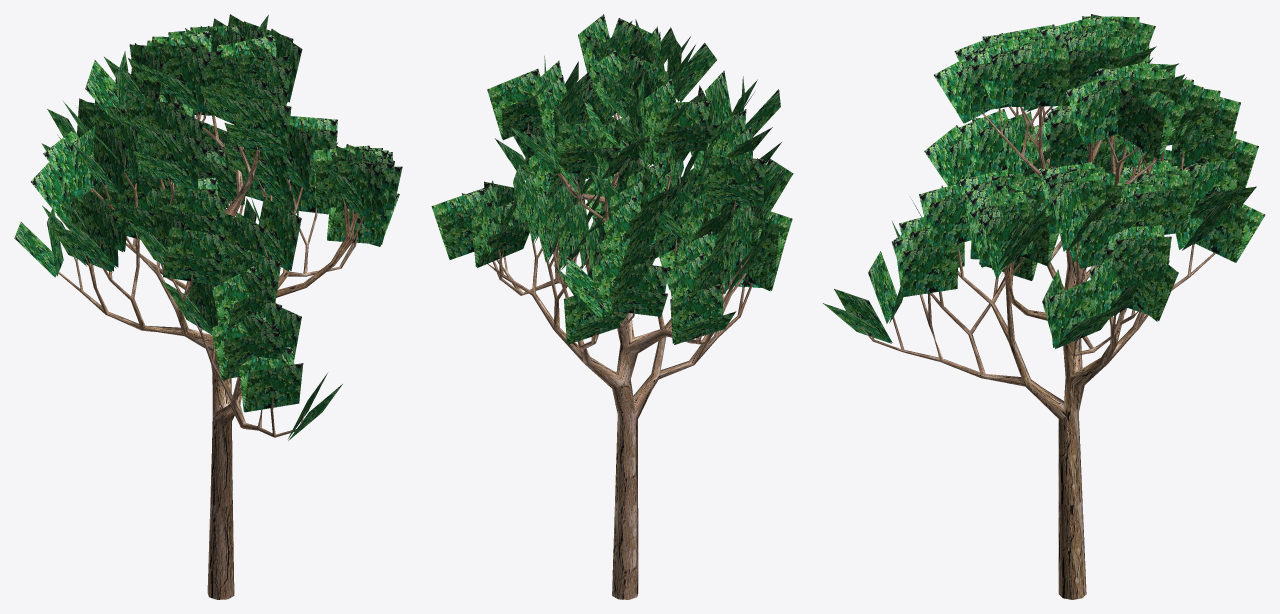
The picture shows the model from 3 angles, left to right: view 1: azimuth 30°, elevation 25°; view 2: azimuth 150°, elevation 25°; view 3: azimuth 270°, elevation 25°; orthographic projection.
Parts seen in each view (by area): view 1: twig_002, tree_002; view 2: twig_002, tree_002; view 3: twig_002, tree_002.
Part boxes in pixels (x1,y1,x2,y2): twig_002: (14, 14, 402, 440); tree_002: (58, 92, 364, 599); twig_002: (431, 14, 793, 344); tree_002: (471, 113, 757, 599); twig_002: (823, 14, 1265, 348); tree_002: (858, 106, 1215, 599).
Bounding box in the file's own units: 3.82 × 4.31 × 5.97.
Materials: 2 (2 with a texture image).
